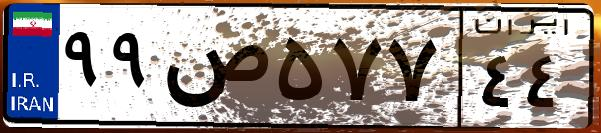4: (475, 38, 525, 113), (525, 38, 570, 115)
5: (270, 28, 330, 110)
7: (385, 28, 445, 110), (330, 28, 385, 110)
9: (57, 26, 110, 100), (110, 28, 158, 98)
ص: (158, 20, 270, 120)
